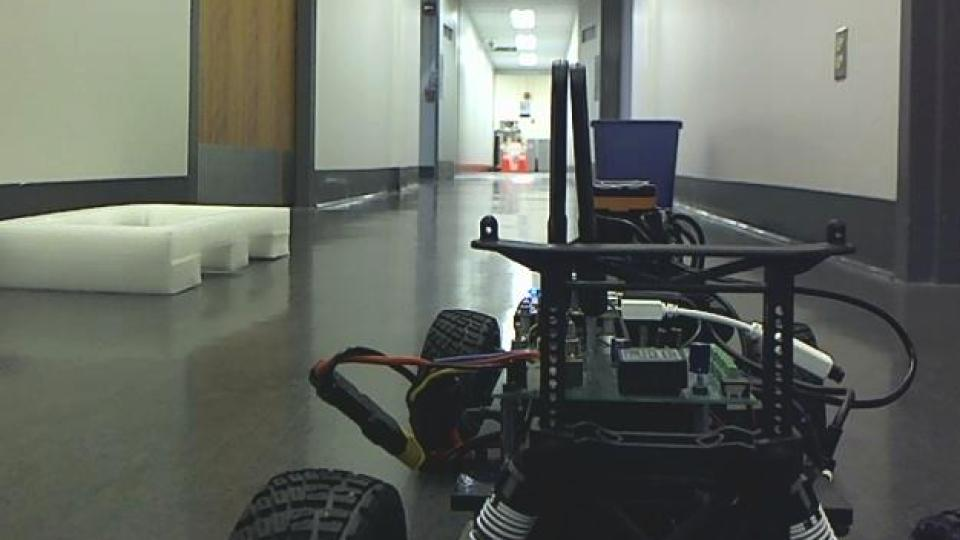car: (222, 57, 920, 540)
